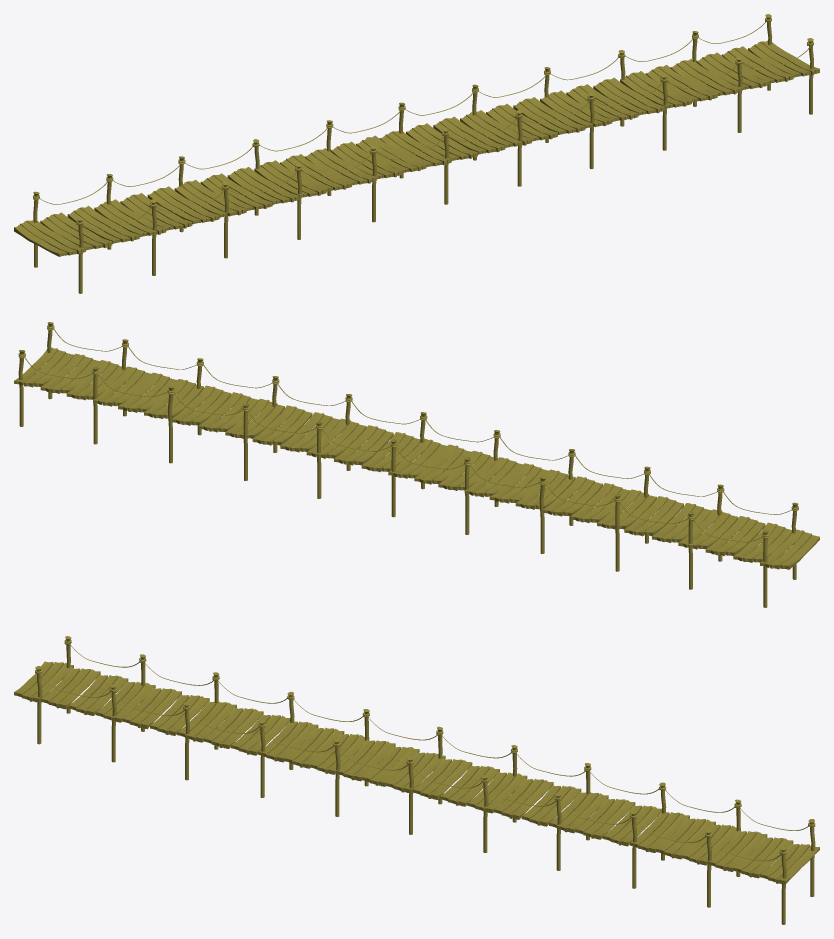
File: obj_dock_UV_01.fbx
3 renders of one model, top to bottom at view 1: azimuth 30°, elevation 25°; view 2: azimuth 150°, elevation 25°; view 3: azimuth 330°, elevation 25°, orthographic.
Visible parts, largest first — view 1: obj_dock_UV_01; view 2: obj_dock_UV_01; view 3: obj_dock_UV_01.
Part boxes in pixels (bbox=[...]): obj_dock_UV_01: bbox=[14, 14, 819, 293]; obj_dock_UV_01: bbox=[14, 322, 819, 607]; obj_dock_UV_01: bbox=[14, 636, 819, 924].
Bounding box in the file's own units: 47.53 × 4.51 × 4.66.
